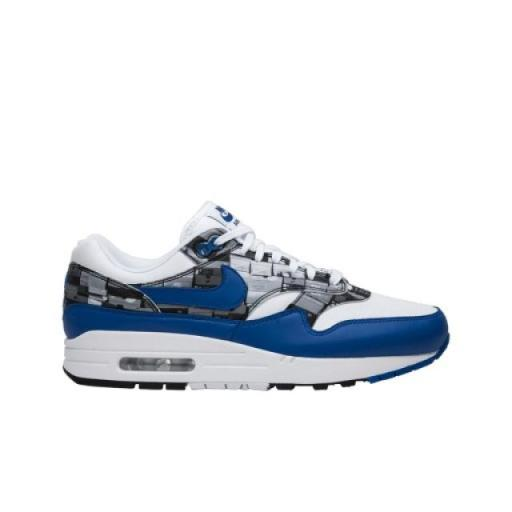Nike: (123, 266, 252, 314)
